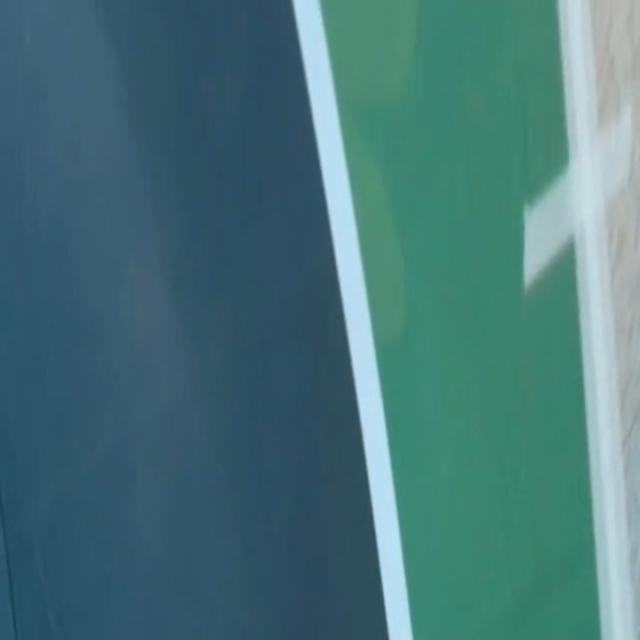right: (292, 0, 412, 639)
